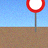sign: (26, 0, 45, 38)
